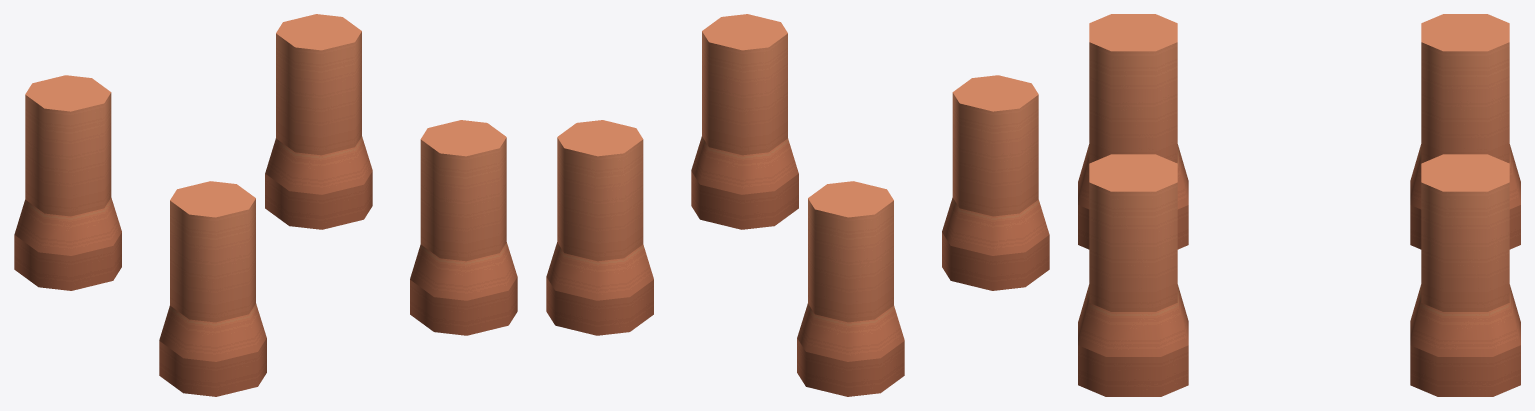
Rendered from supports_low_bottom.glb.
3 views of the same model, side by side, from view 1: azimuth 30°, elevation 25°; view 2: azimuth 150°, elevation 25°; view 3: azimuth 270°, elevation 25° (orthographic). The views are drawn at different scales.
Parts seen in each view (by area): view 1: supports-low-bottom; view 2: supports-low-bottom; view 3: supports-low-bottom.
Part boxes in pixels (x1=…): supports-low-bottom: x1=14, y1=14, x2=517, y2=396; supports-low-bottom: x1=546, y1=14, x2=1049, y2=396; supports-low-bottom: x1=1078, y1=14, x2=1520, y2=396.
Bounding box in the file's own units: 1 × 0.5 × 1.
1 material, 1 textured.
